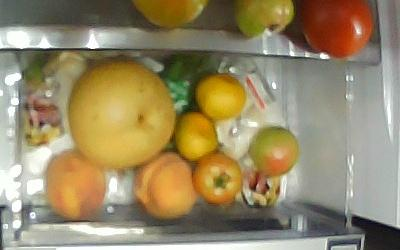peach: (133, 151, 198, 221), (46, 150, 107, 221)
pear: (67, 57, 176, 171)
tangerine: (195, 71, 246, 121), (173, 111, 218, 162)
tomato: (192, 153, 243, 206), (248, 127, 300, 177)
